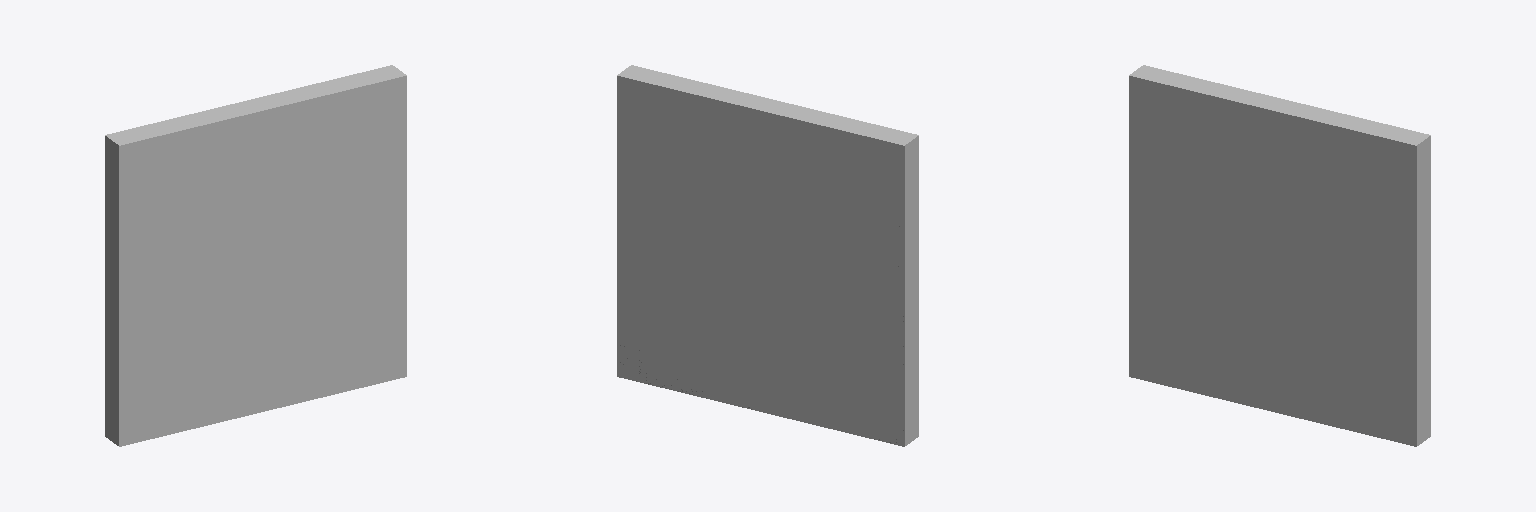
The model's file is zom_dah_ceiling_corner_4m.obj.
The picture shows the model from 3 angles: view 1: azimuth 30°, elevation 25°; view 2: azimuth 150°, elevation 25°; view 3: azimuth 330°, elevation 25°; orthographic projection.
Visible parts, largest first — view 1: c_box_003, co_culling, c_box_001; view 2: co_culling, c_box_003; view 3: c_box_003, co_culling.
Part boxes in pixels (x1,y1,x2,y2): c_box_003: (115,73,406,446); co_culling: (105,65,402,443); c_box_001: (105,136,114,441); co_culling: (617,68,914,446); c_box_003: (628,65,918,438); c_box_003: (1129,73,1420,446); co_culling: (1133,65,1430,443).
Bounding box in the file's own units: 400 × 400 × 35.